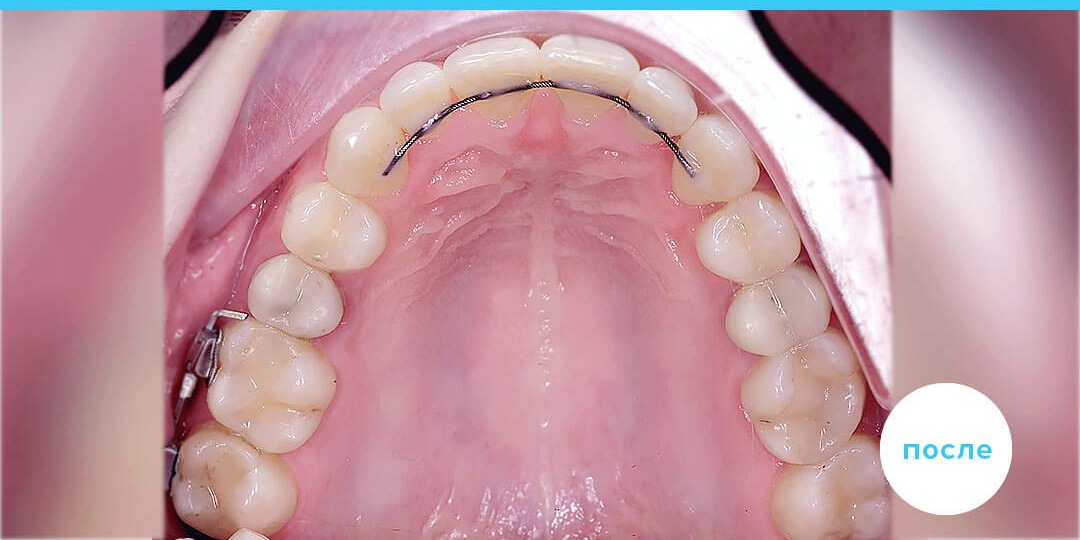UL1BC_healthy: (698, 193, 799, 283)
UL1M_healthy: (742, 332, 862, 465)
UL2BC_healthy: (728, 266, 829, 355)
UL2M_healthy: (771, 444, 879, 537)
ULCI_decay: (539, 34, 637, 118)
ULC_decay: (673, 113, 759, 203)
ULLI_decay: (635, 67, 697, 141)
UR1BC_healthy: (283, 184, 384, 271)
UR1M_healthy: (225, 323, 336, 454)
UR2BC_healthy: (249, 256, 343, 338)
UR2M_decay: (181, 433, 295, 531)
URCI_decay: (445, 37, 540, 116)
URC_decay: (327, 108, 408, 194)
URLI_decay: (379, 60, 446, 134)
